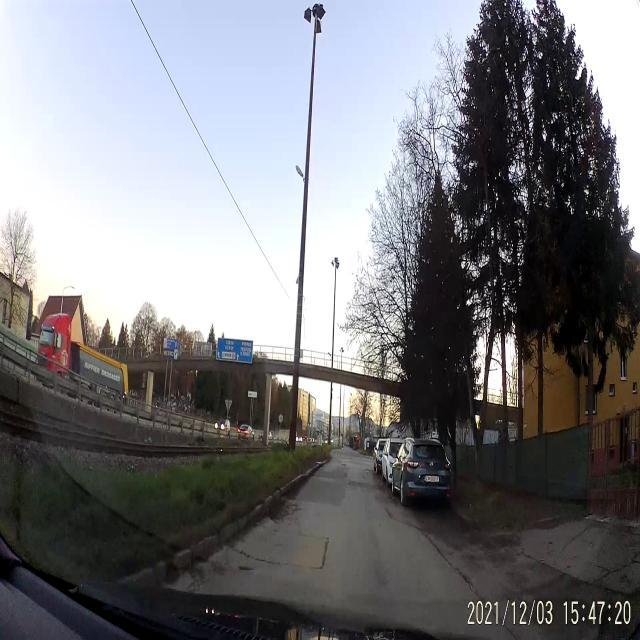Pothole: (270, 499, 290, 524), (238, 560, 256, 576)
